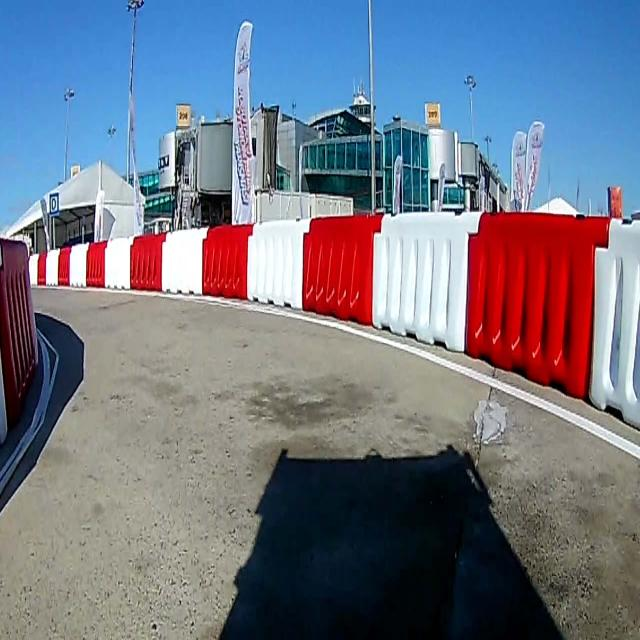durak: (49, 193, 59, 215)
